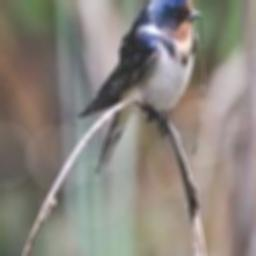Swallow: (77, 0, 201, 173)
